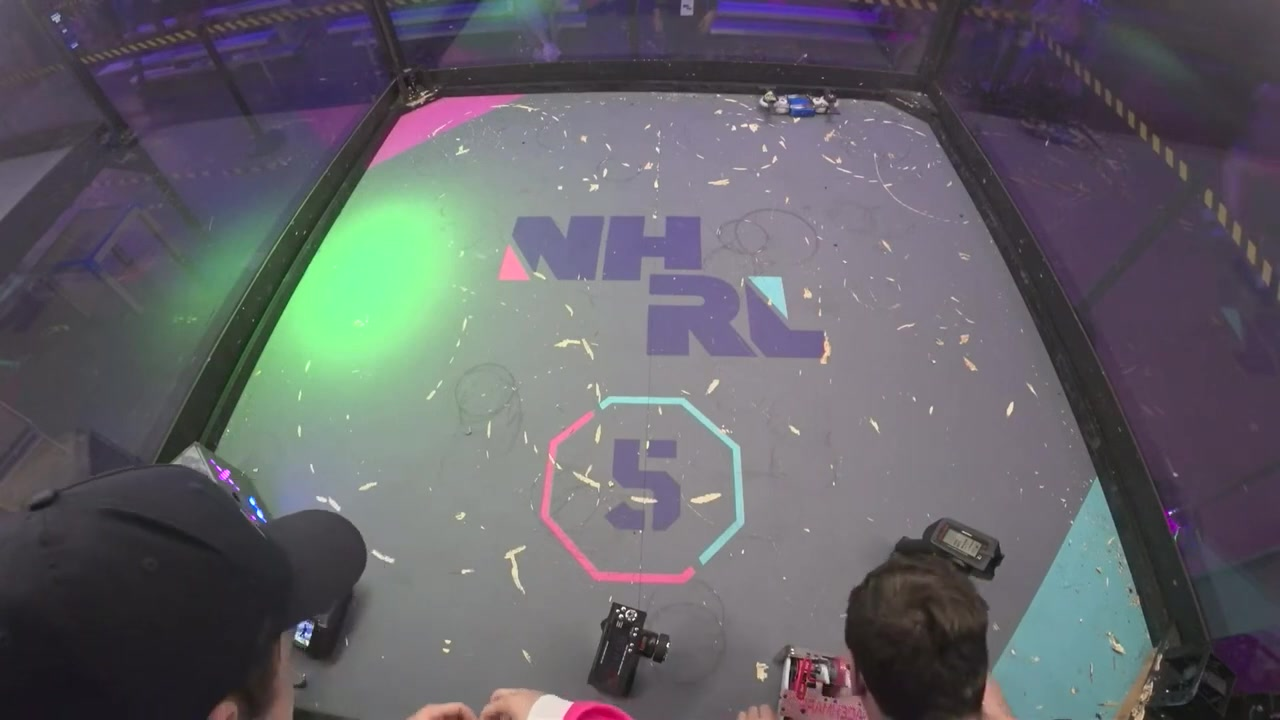combatbot: (774, 646, 868, 720), (759, 90, 839, 120)
housebot: (168, 447, 274, 529)
